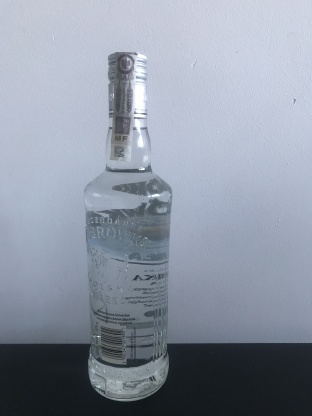nakretka: (104, 48, 150, 123)
